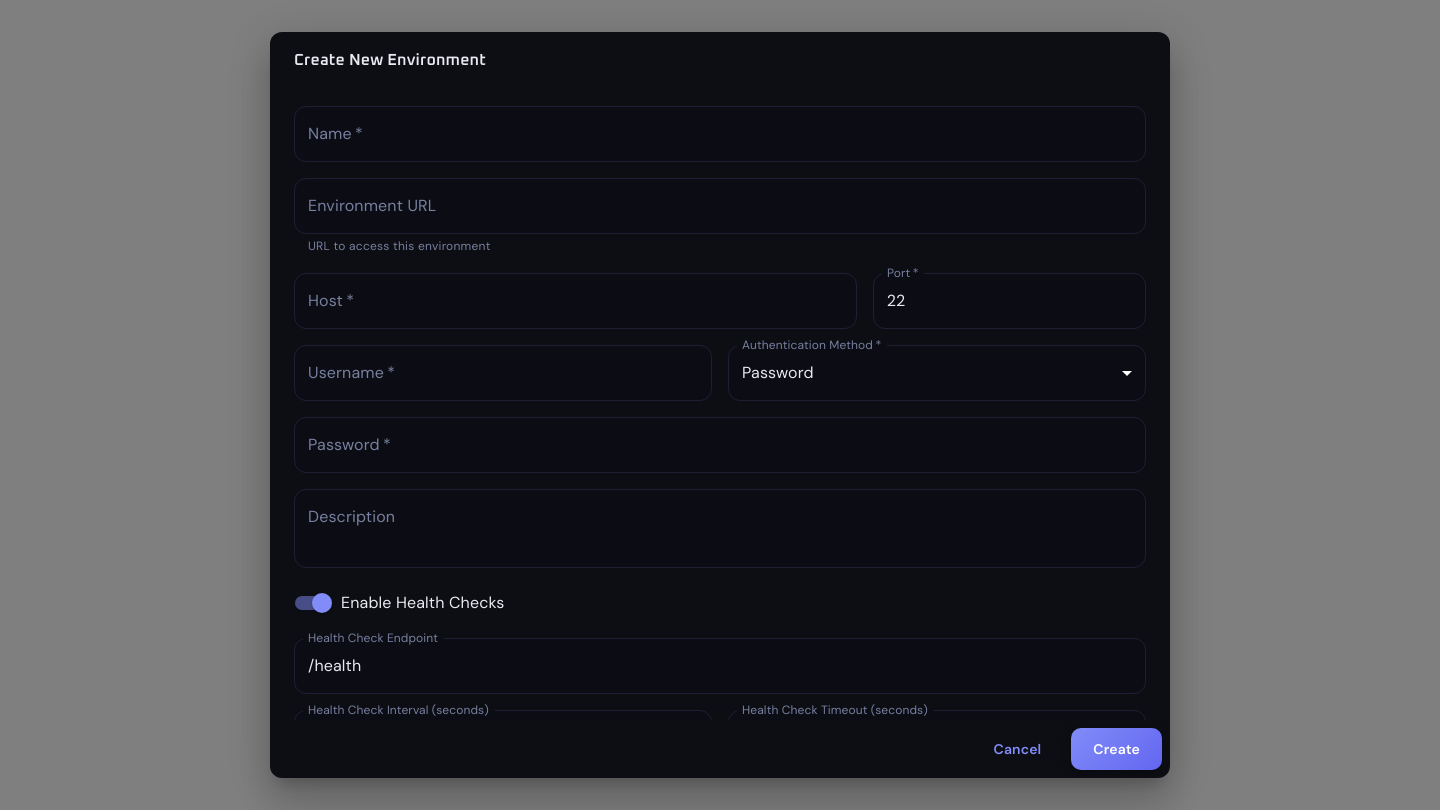
Test: CreateEnvironmentDialog › shows validation error when name is empty on submit
Click the button "Create": [1117, 749] box [1071, 728, 1162, 770]
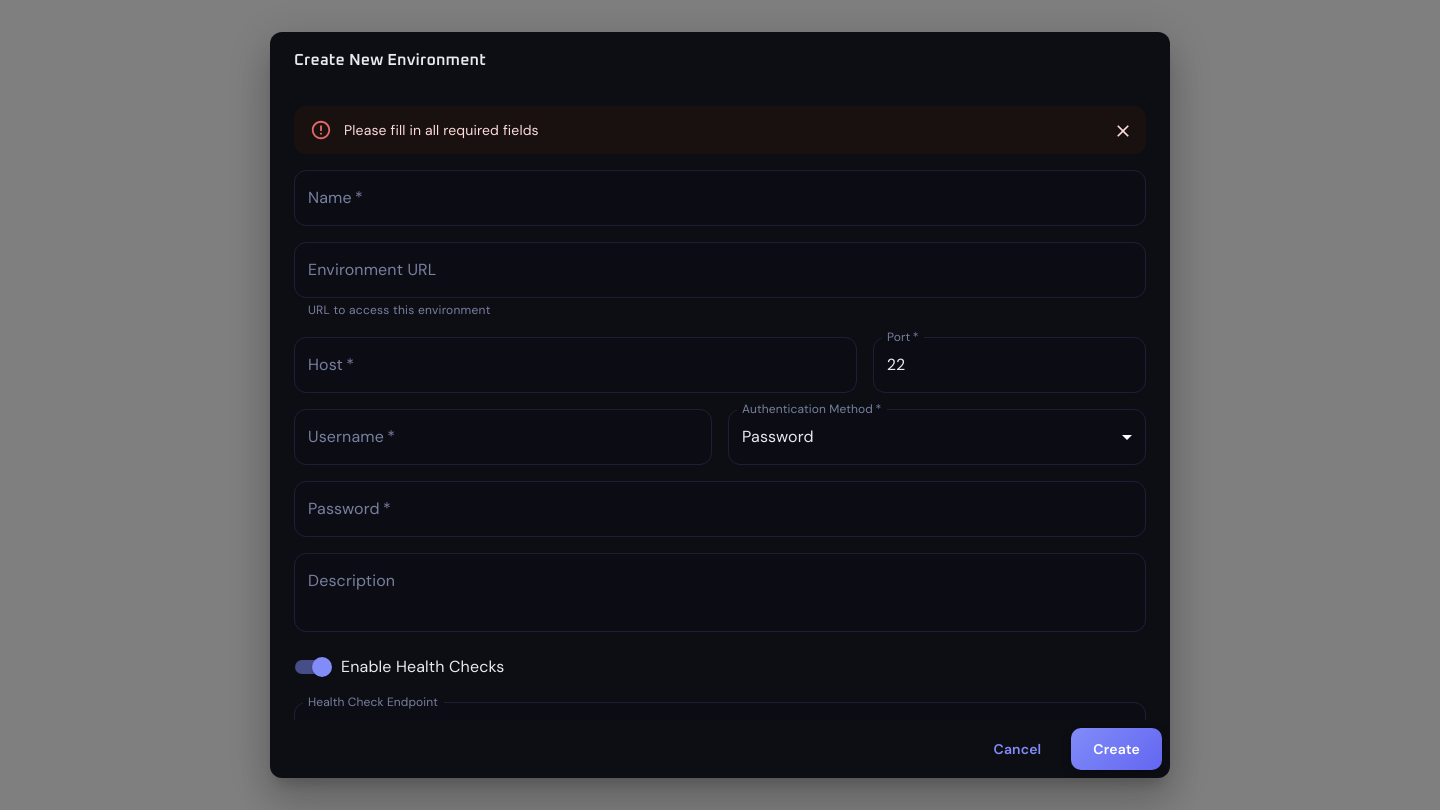
expect the text "Please fill in all required fields" is shown: met, box [344, 121, 539, 139]
